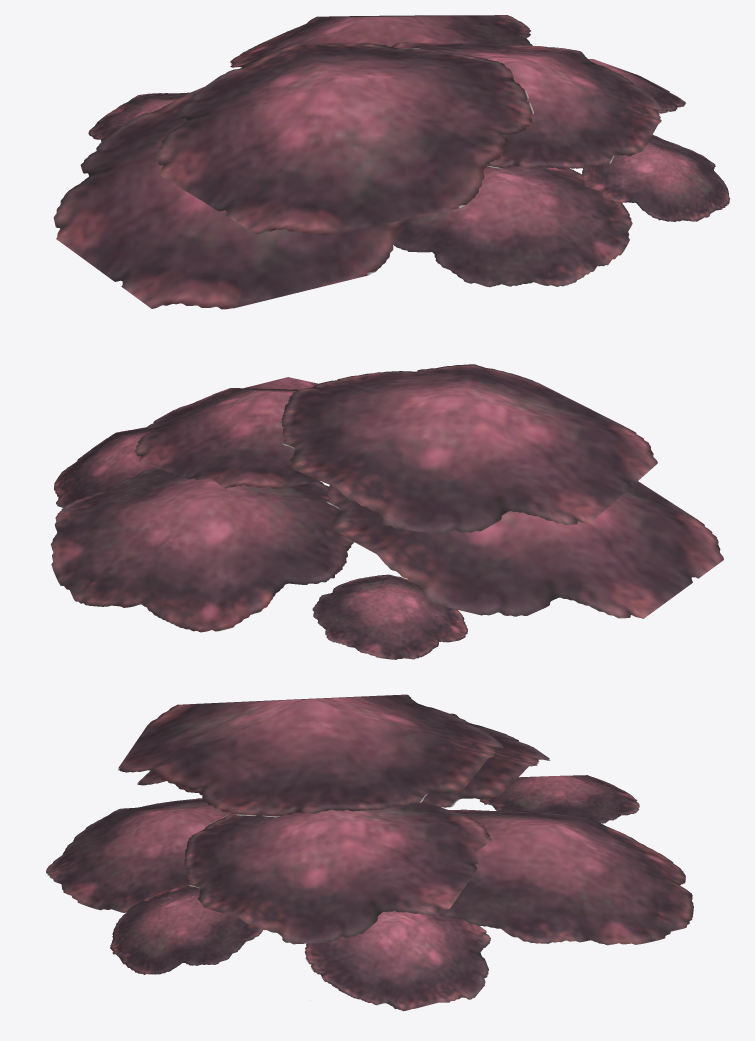
The model's file is SJHD_plant_04.FBX.
3 renders of one model, top to bottom at view 1: azimuth 30°, elevation 25°; view 2: azimuth 150°, elevation 25°; view 3: azimuth 270°, elevation 25°, orthographic. The views are drawn at different scales.
Parts seen in each view (by area): view 1: SJHD_plant_04; view 2: SJHD_plant_04; view 3: SJHD_plant_04.
Boxes of the visible parts, left/top/right/bottom form: SJHD_plant_04: left=53, top=15, right=730, bottom=309; SJHD_plant_04: left=50, top=364, right=723, bottom=659; SJHD_plant_04: left=46, top=694, right=693, bottom=1011.
Size of the model in its own units: 142 by 31.25 by 145.
Materials: 1 (1 with a texture image).
